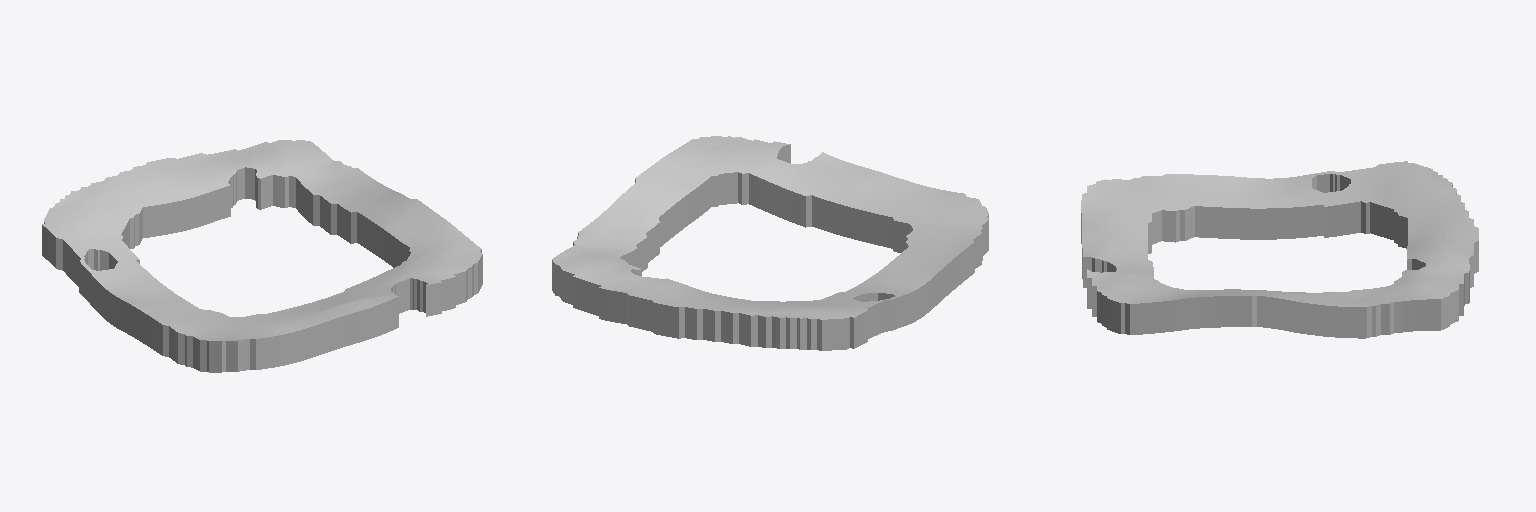
Rendered from grassLevel4.obj.
3 views of the same model, side by side, from view 1: azimuth 30°, elevation 25°; view 2: azimuth 150°, elevation 25°; view 3: azimuth 270°, elevation 25° (orthographic).
Visible parts, largest first — view 1: Grass_Plane.002; view 2: Grass_Plane.002; view 3: Grass_Plane.002.
Boxes of the visible parts, x1,y1,x2,y2 form: Grass_Plane.002: [42, 140, 482, 372]; Grass_Plane.002: [552, 136, 988, 350]; Grass_Plane.002: [1081, 161, 1478, 338].
Bounding box in the file's own units: 116 × 23.43 × 132.